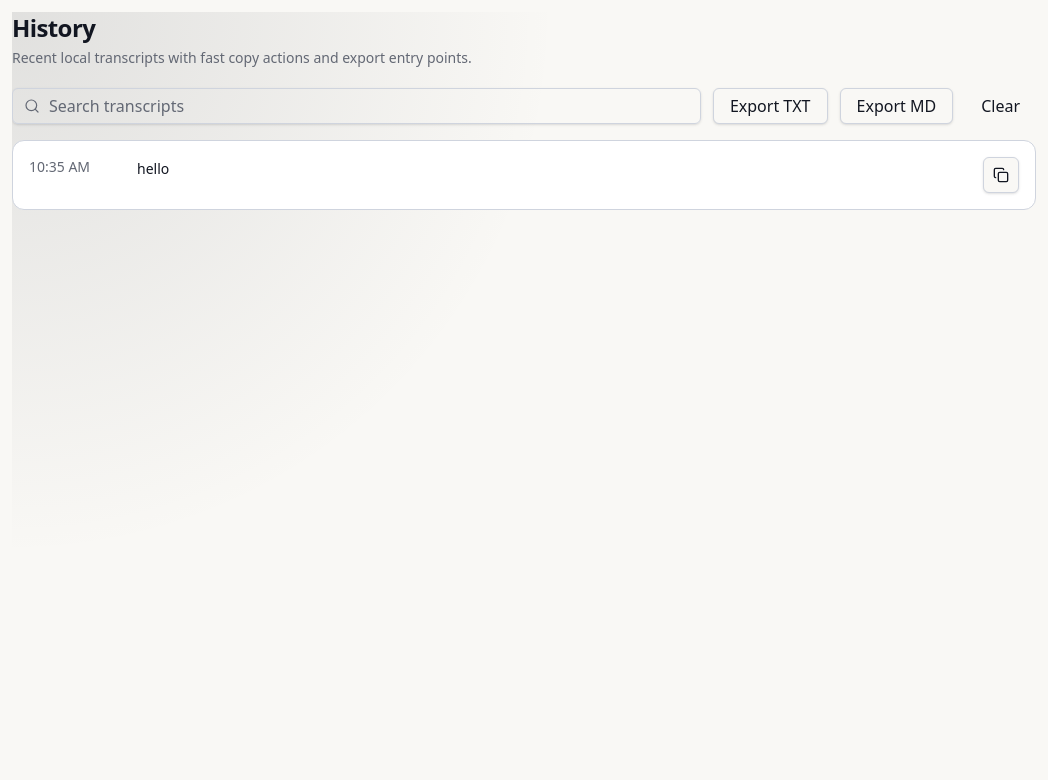
stage 3 UI behavior › uses the exported file path in history export success copy
Click the button "Export TXT": (770, 106) 713,88 -> 828,124
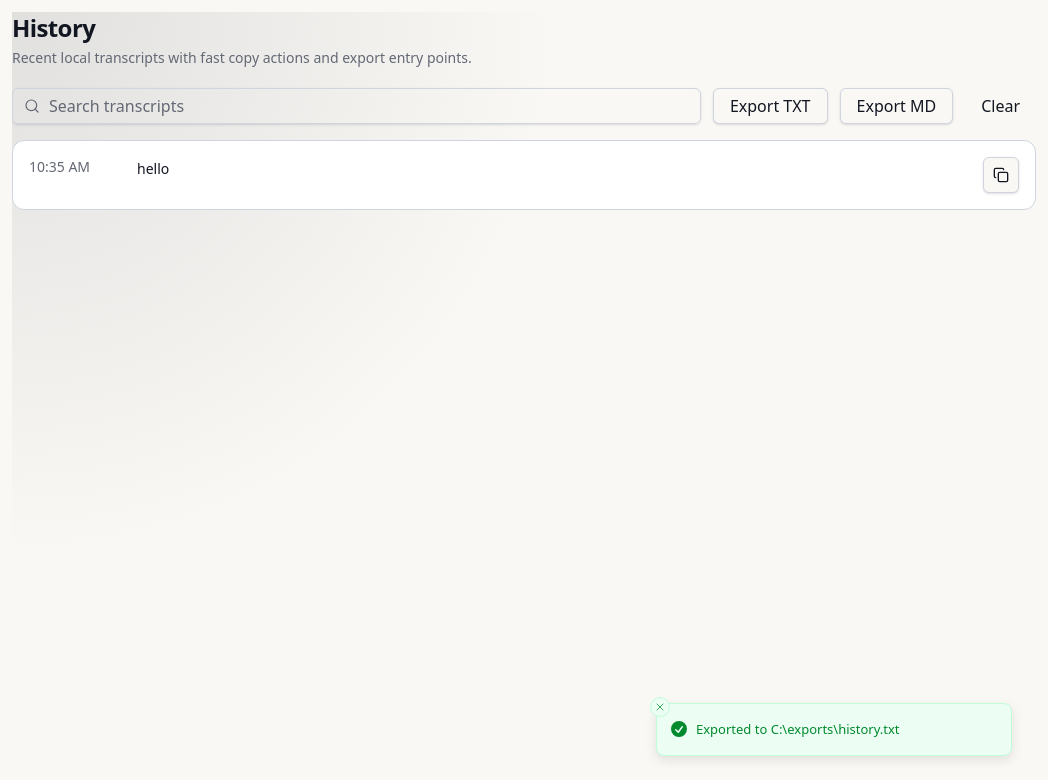
Expected: the text "Exported to C:\\exports\\history.txt" is shown, 696,720 -> 900,739
